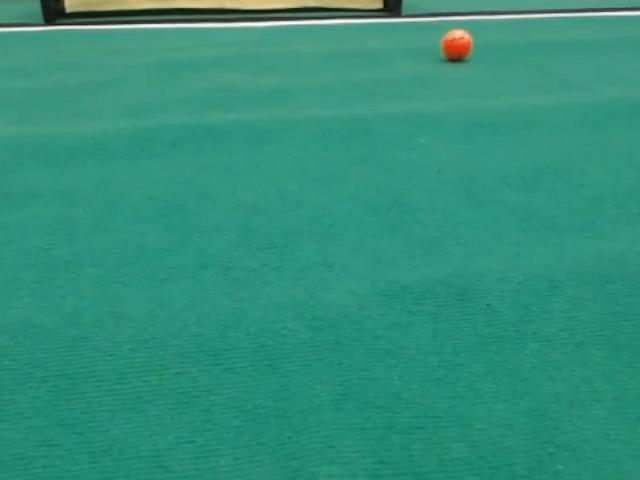Ball: (441, 29, 472, 61)
